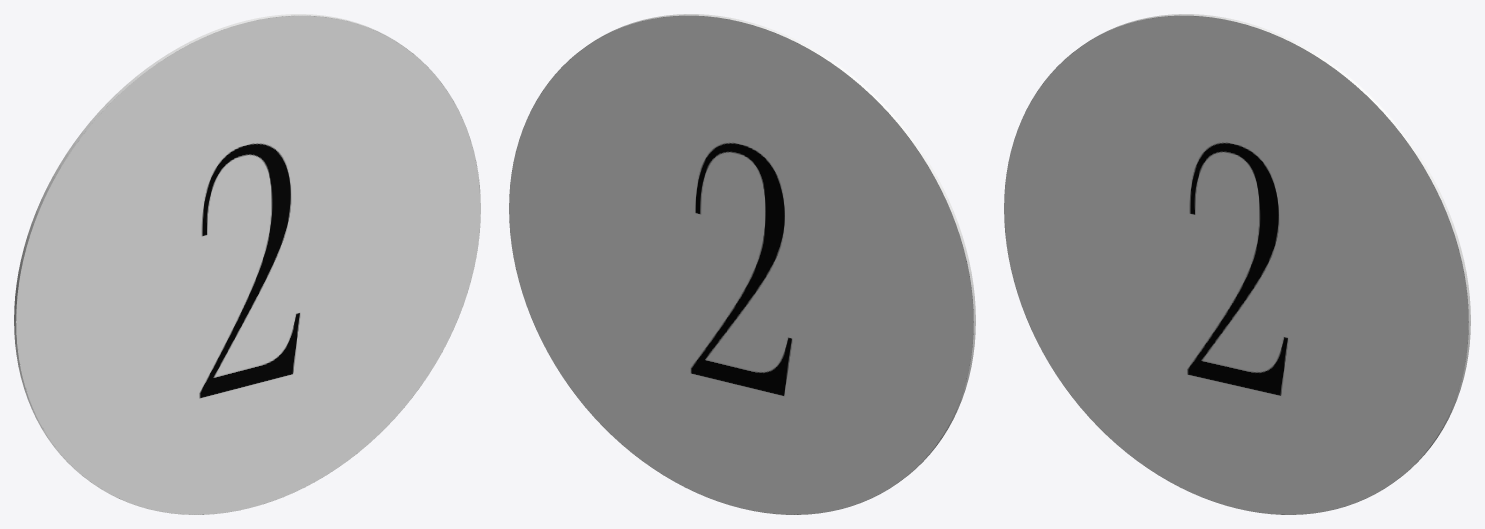
The model's file is number2.glb.
3 views of the same model, side by side, from view 1: azimuth 30°, elevation 25°; view 2: azimuth 150°, elevation 25°; view 3: azimuth 330°, elevation 25° (orthographic).
Visible parts, largest first — view 1: Cylinder; view 2: Cylinder; view 3: Cylinder.
Boxes of the visible parts, x1,y1,x2,y2 form: Cylinder: (14, 14, 480, 514); Cylinder: (509, 14, 975, 514); Cylinder: (1004, 14, 1470, 514).
Bounding box in the file's own units: 5 × 5 × 0.0392.
2 materials, 1 textured.
